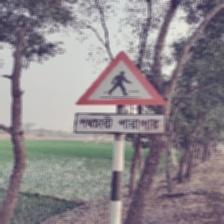Pedestrian-crossing: (73, 51, 169, 135)
